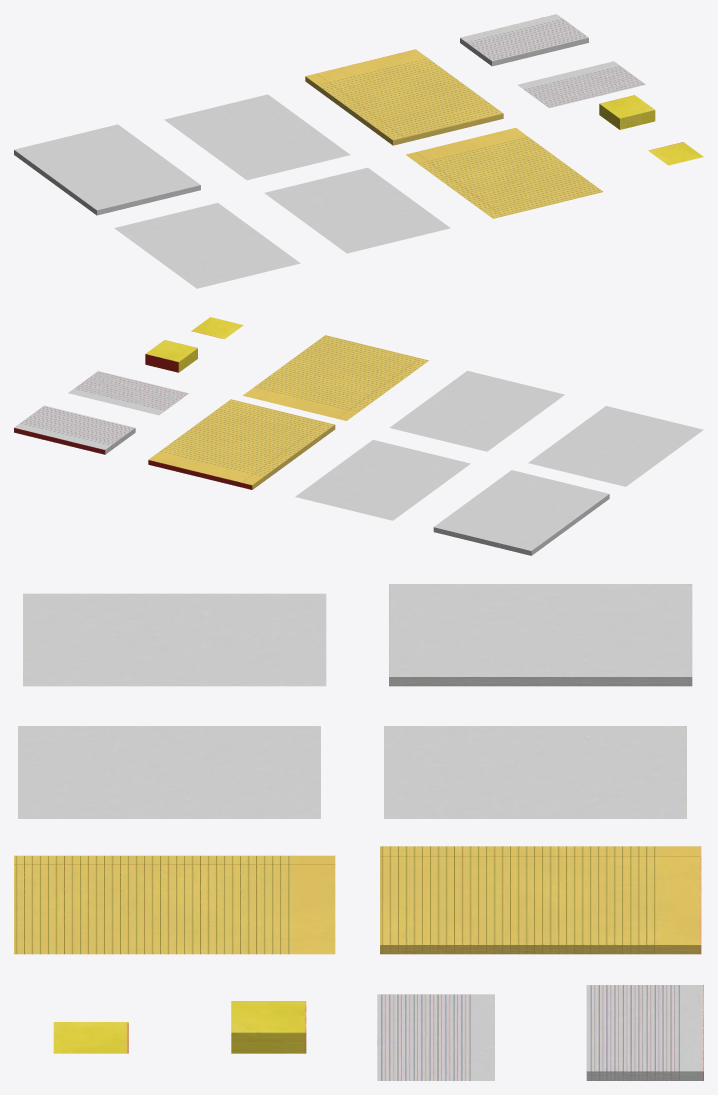
The model's file is office_notepads.glb.
3 renders of one model, top to bottom at view 1: azimuth 30°, elevation 25°; view 2: azimuth 150°, elevation 25°; view 3: azimuth 270°, elevation 25°, orthographic. The views are drawn at different scales.
Visible parts, largest first — view 1: office_notepads_yellow_pad, office_notepads_yellow_sheet, office_notepads_a4_stack, office_notepads_a4_a, office_notepads_a4_b, office_notepads_a4_c, office_notepads_note_stack, office_notepads_note_sheet, office_notepads_sticky_stack, office_notepads_sticky_sheet; view 2: office_notepads_yellow_pad, office_notepads_yellow_sheet, office_notepads_a4_stack, office_notepads_a4_b, office_notepads_a4_c, office_notepads_a4_a, office_notepads_note_stack, office_notepads_note_sheet, office_notepads_sticky_stack, office_notepads_sticky_sheet; view 3: office_notepads_yellow_pad, office_notepads_yellow_sheet, office_notepads_a4_stack, office_notepads_a4_a, office_notepads_a4_b, office_notepads_a4_c, office_notepads_note_stack, office_notepads_note_sheet, office_notepads_sticky_stack, office_notepads_sticky_sheet.
Boxes of the visible parts, x1=… form: office_notepads_yellow_pad: x1=305, y1=49, x2=503, y2=145; office_notepads_yellow_sheet: x1=406, y1=127, x2=603, y2=218; office_notepads_a4_stack: x1=14, y1=124, x2=200, y2=215; office_notepads_a4_a: x1=114, y1=203, x2=300, y2=288; office_notepads_a4_b: x1=164, y1=94, x2=350, y2=180; office_notepads_a4_c: x1=264, y1=167, x2=450, y2=253; office_notepads_note_stack: x1=460, y1=14, x2=588, y2=66; office_notepads_note_sheet: x1=517, y1=61, x2=645, y2=108; office_notepads_sticky_stack: x1=599, y1=95, x2=655, y2=129; office_notepads_sticky_sheet: x1=648, y1=142, x2=703, y2=165; office_notepads_yellow_pad: x1=148, y1=399, x2=335, y2=489; office_notepads_yellow_sheet: x1=243, y1=335, x2=428, y2=420; office_notepads_a4_stack: x1=433, y1=470, x2=609, y2=555; office_notepads_a4_b: x1=295, y1=440, x2=470, y2=520; office_notepads_a4_c: x1=389, y1=371, x2=564, y2=451; office_notepads_a4_a: x1=528, y1=406, x2=703, y2=486; office_notepads_note_stack: x1=14, y1=405, x2=135, y2=454; office_notepads_note_sheet: x1=68, y1=371, x2=188, y2=415; office_notepads_sticky_stack: x1=145, y1=340, x2=197, y2=372; office_notepads_sticky_sheet: x1=191, y1=317, x2=243, y2=339; office_notepads_yellow_pad: x1=380, y1=846, x2=701, y2=954; office_notepads_yellow_sheet: x1=14, y1=855, x2=335, y2=954; office_notepads_a4_stack: x1=389, y1=584, x2=692, y2=686; office_notepads_a4_a: x1=23, y1=593, x2=326, y2=686; office_notepads_a4_b: x1=384, y1=726, x2=686, y2=818; office_notepads_a4_c: x1=18, y1=726, x2=320, y2=818; office_notepads_note_stack: x1=586, y1=985, x2=703, y2=1080; office_notepads_note_sheet: x1=377, y1=994, x2=494, y2=1080; office_notepads_sticky_stack: x1=231, y1=1001, x2=306, y2=1053; office_notepads_sticky_sheet: x1=53, y1=1022, x2=128, y2=1053.
Size of the model in its own units: 1.1 by 0.022 by 0.6598.
Materials: 1 (1 with a texture image).
